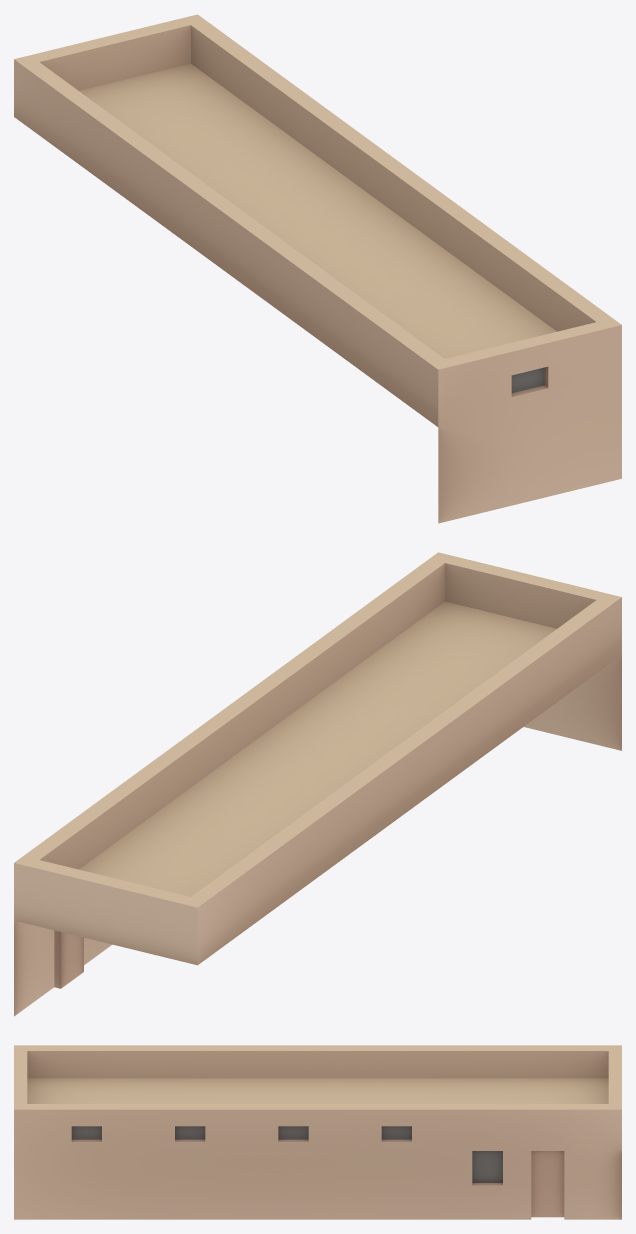
3 renders of one model, top to bottom at view 1: azimuth 30°, elevation 25°; view 2: azimuth 150°, elevation 25°; view 3: azimuth 270°, elevation 25°, orthographic. The views are drawn at different scales.
Visible parts, largest first — view 1: atturaifworldheritagesite70030076676985563; view 2: atturaifworldheritagesite70030076676985563; view 3: atturaifworldheritagesite70030076676985563.
Part boxes in pixels (<box>): atturaifworldheritagesite70030076676985563: <box>14,14,621,523</box>; atturaifworldheritagesite70030076676985563: <box>14,552,621,1016</box>; atturaifworldheritagesite70030076676985563: <box>14,1045,621,1219</box>.
Size of the model in its own units: 4 by 3.2 by 16.
1 material, 1 textured.
